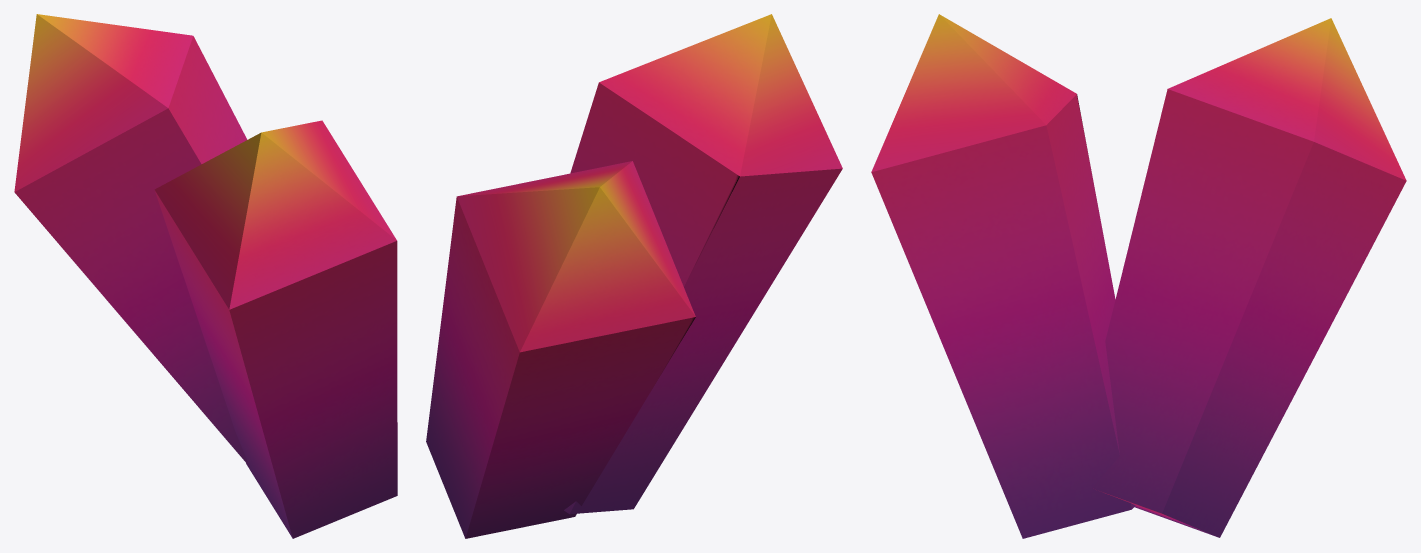
The model's file is CrystalDouble.fbx.
3 views of the same model, side by side, from view 1: azimuth 30°, elevation 25°; view 2: azimuth 150°, elevation 25°; view 3: azimuth 270°, elevation 25° (orthographic). The views are drawn at different scales.
Visible parts, largest first — view 1: CrystalDouble2, CrystalDouble; view 2: CrystalDouble, CrystalDouble2; view 3: CrystalDouble, CrystalDouble2.
Boxes of the visible parts, x1,y1,x2,y2 form: CrystalDouble2: [154, 120, 397, 538]; CrystalDouble: [14, 14, 249, 466]; CrystalDouble: [426, 161, 695, 538]; CrystalDouble2: [564, 14, 842, 514]; CrystalDouble: [1092, 18, 1406, 537]; CrystalDouble2: [871, 14, 1135, 538].
Size of the model in its own units: 1.94 by 2.77 by 2.89.
